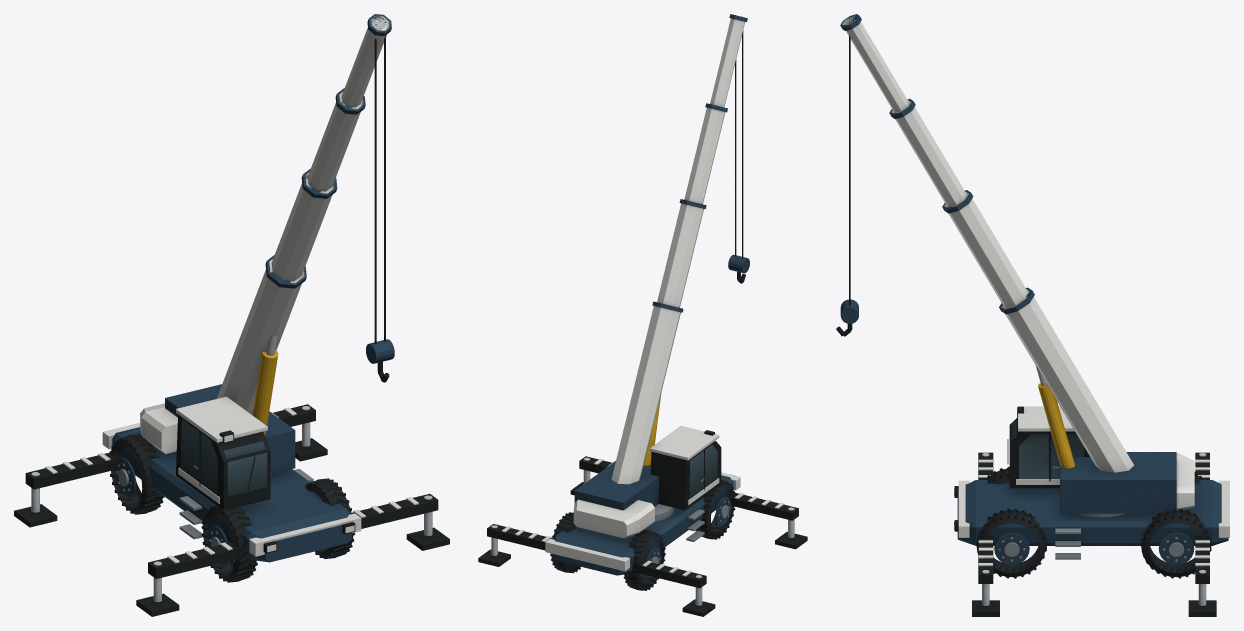
The model's file is mobile_crane.obj.
3 views of the same model, side by side, from view 1: azimuth 30°, elevation 25°; view 2: azimuth 150°, elevation 25°; view 3: azimuth 270°, elevation 25° (orthographic). The views are drawn at different scales.
Parts seen in each view (by area): view 1: mobile_crane; view 2: mobile_crane; view 3: mobile_crane.
Part boxes in pixels (x1=…): mobile_crane: x1=14, y1=14, x2=449, y2=616; mobile_crane: x1=478, y1=14, x2=807, y2=616; mobile_crane: x1=836, y1=14, x2=1229, y2=616.
Bounding box in the file's own units: 7.6 × 14.95 × 9.81.
1 material, 1 textured.
